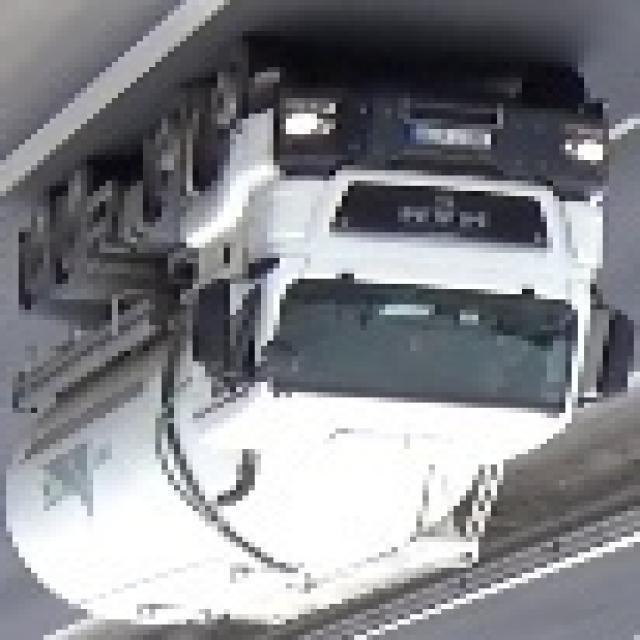Truck: (6, 62, 640, 630)
